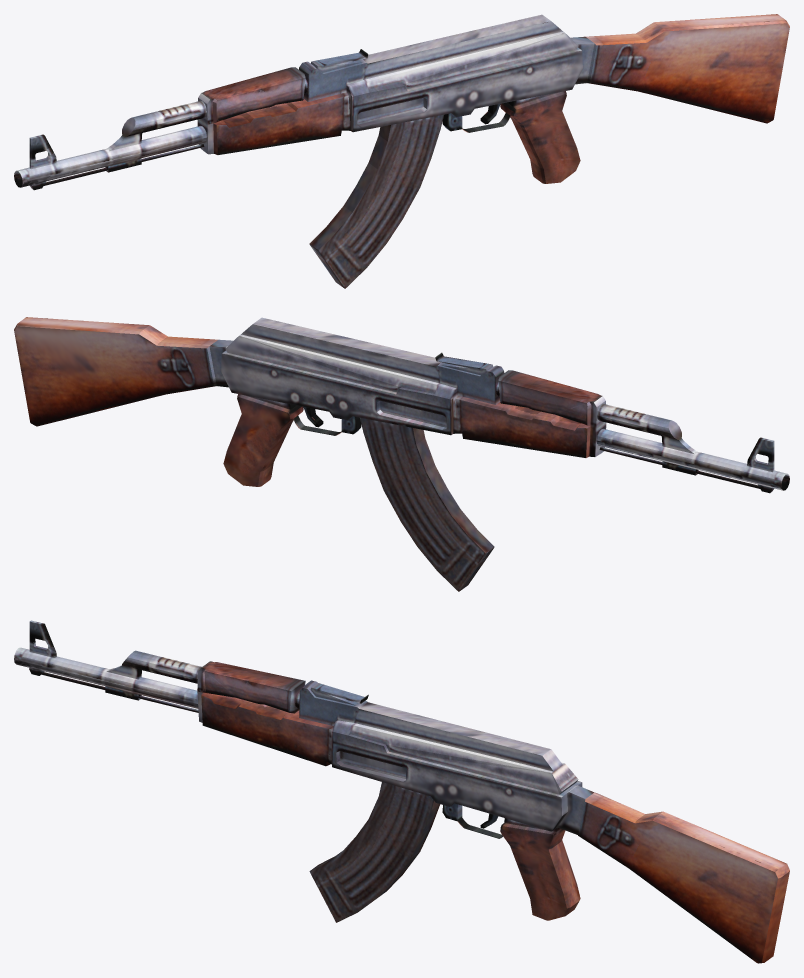
The picture shows the model from 3 angles, top to bottom: view 1: azimuth 30°, elevation 25°; view 2: azimuth 150°, elevation 25°; view 3: azimuth 330°, elevation 25°; orthographic projection.
Visible parts, largest first — view 1: ak.001_Cube.003; view 2: ak.001_Cube.003; view 3: ak.001_Cube.003.
Boxes of the visible parts, x1,y1,x2,y2 form: ak.001_Cube.003: (14,14,789,288); ak.001_Cube.003: (14,317,789,591); ak.001_Cube.003: (14,620,789,963).
Size of the model in its own units: 4.73 by 1.35 by 0.2226.
1 material, 1 textured.
